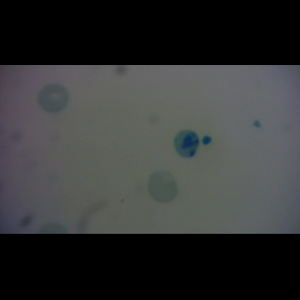aggregate reticulocyte: (173, 129, 200, 158)
erythrocyte: (147, 170, 179, 204), (35, 83, 70, 114)
